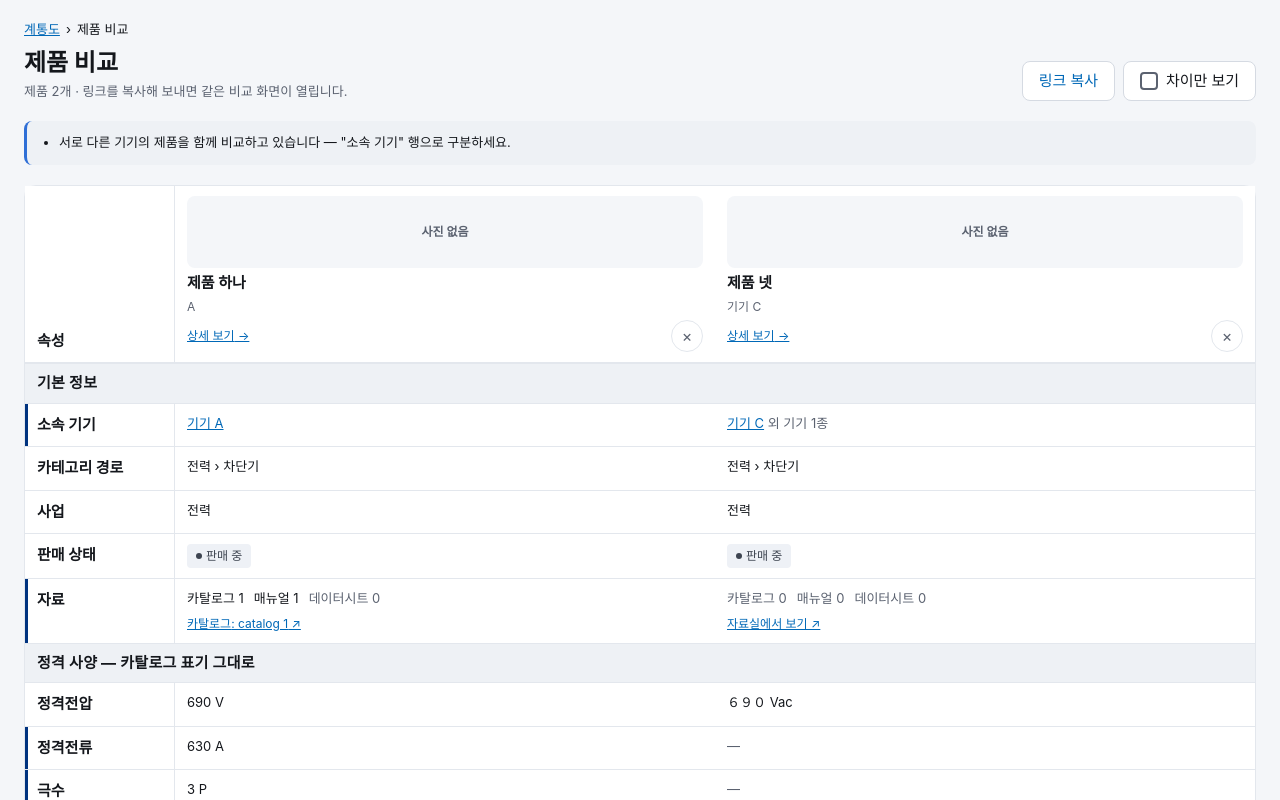
it: CT-07 제품 비교 (/compare?type=product) › (v1.0 M3) 차이만 보기는 정규화 비교: "690 V" = "６９０ Vac" → 같은 값으로 숨김 (화면 표기는 원문)
The width and height of the screenshot is (1280, 800).
Expected: the cell "６９０ Vac" is shown, [715, 683, 1255, 726]
Click the button with test id "compare-diff-only" at (1190, 81), box [1123, 61, 1256, 101]
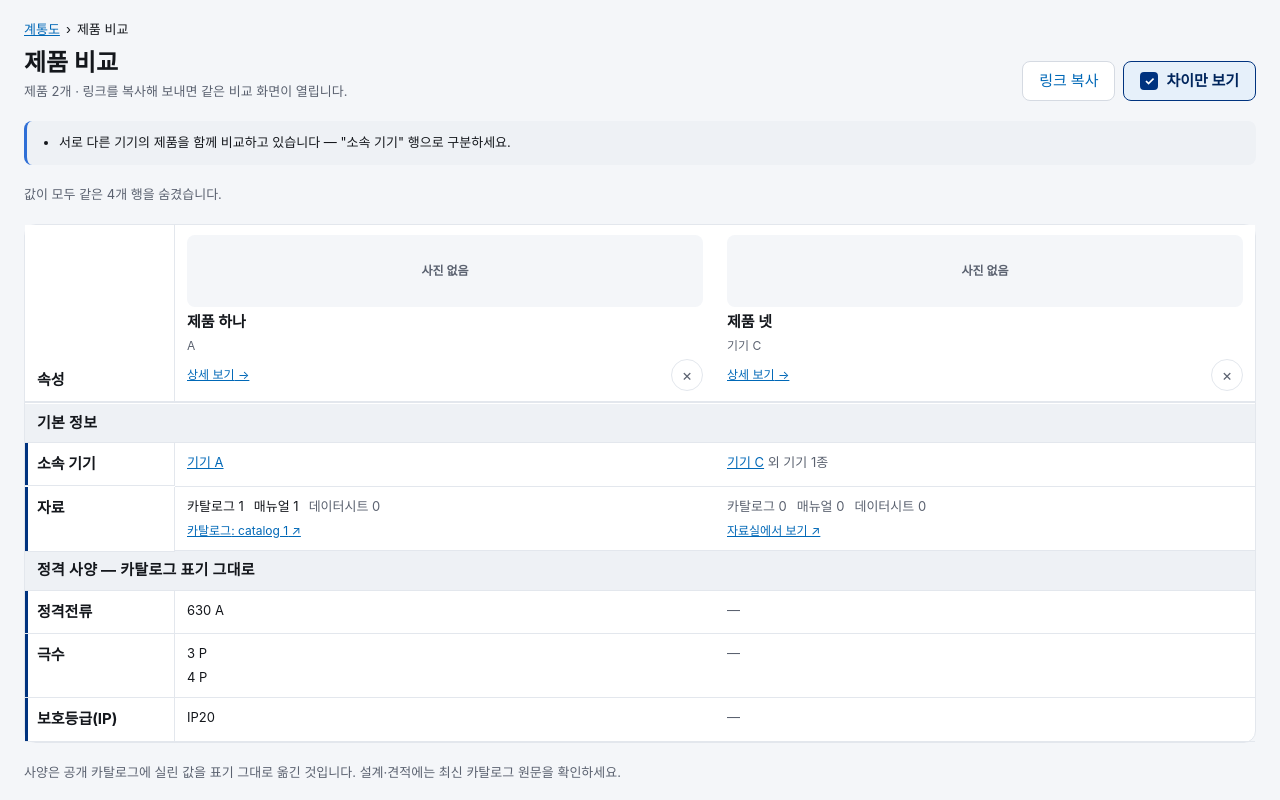
Expected: the row with test id "compare-row-spec-ratedVoltage" is gone
